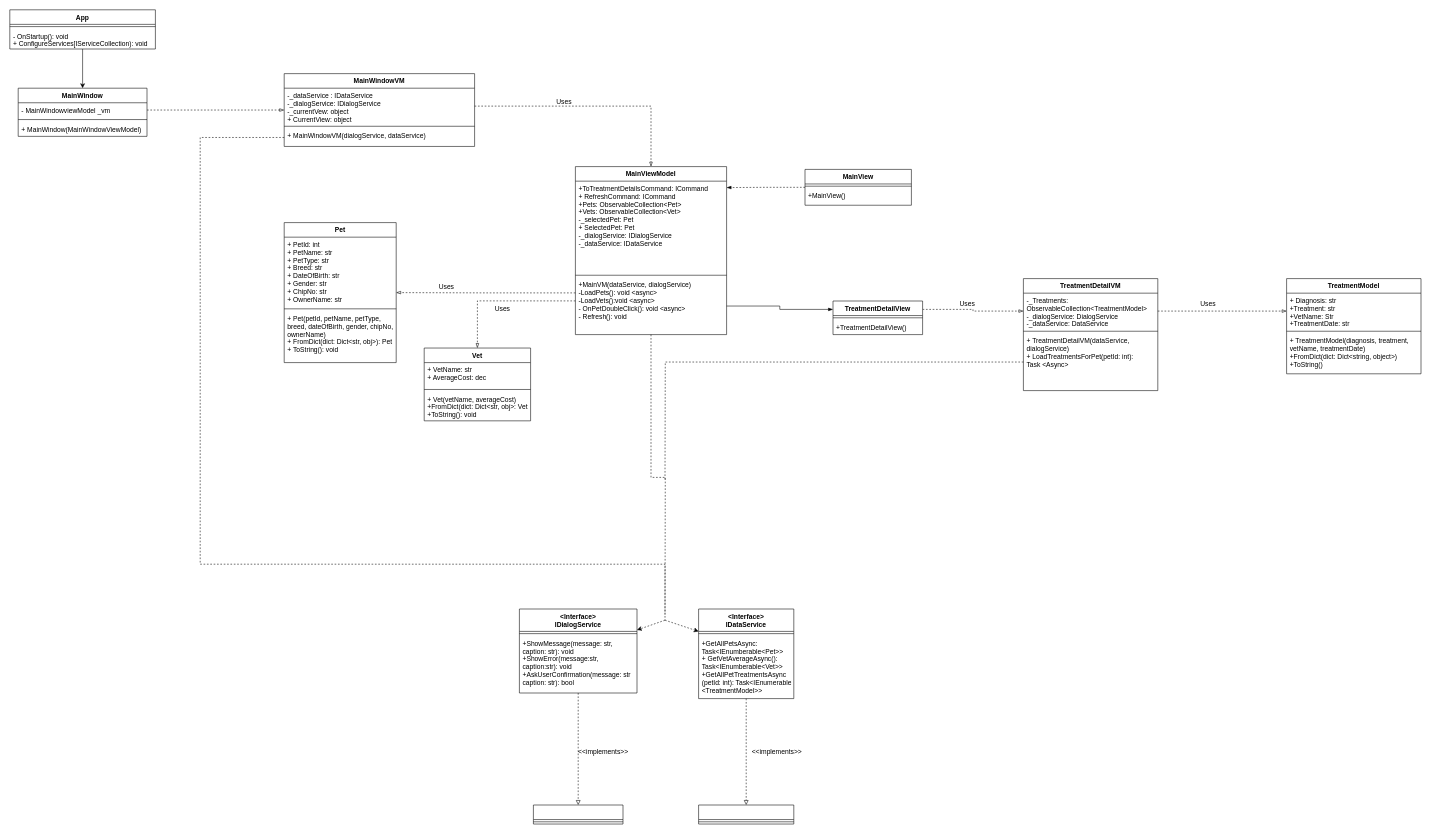
Image size: 1431x834. Some labels were removed from this diagram. The centre of each missing label's shape, as x and y in pixels:
DataService: (746,814)
DialogService: (578,814)
